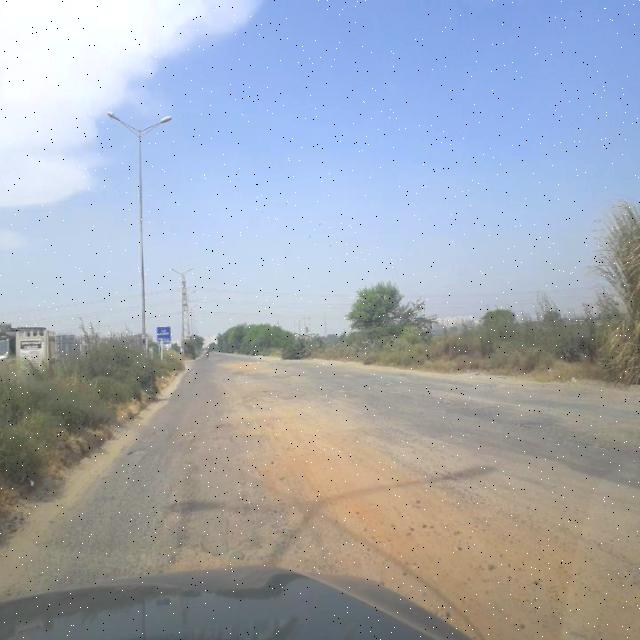D40: (167, 403, 638, 625), (125, 442, 152, 461)
